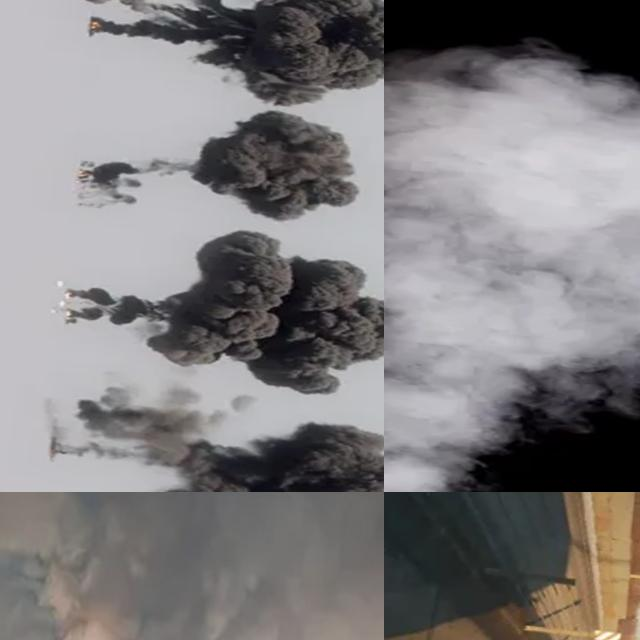smoke: (384, 23, 640, 492), (45, 216, 384, 403), (0, 492, 384, 640), (70, 94, 384, 238), (41, 378, 384, 492), (73, 0, 384, 118)
